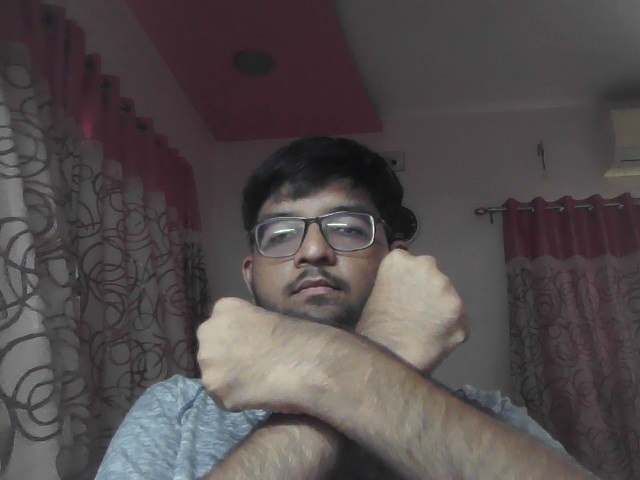પ્રેમ: (159, 243, 529, 480)
